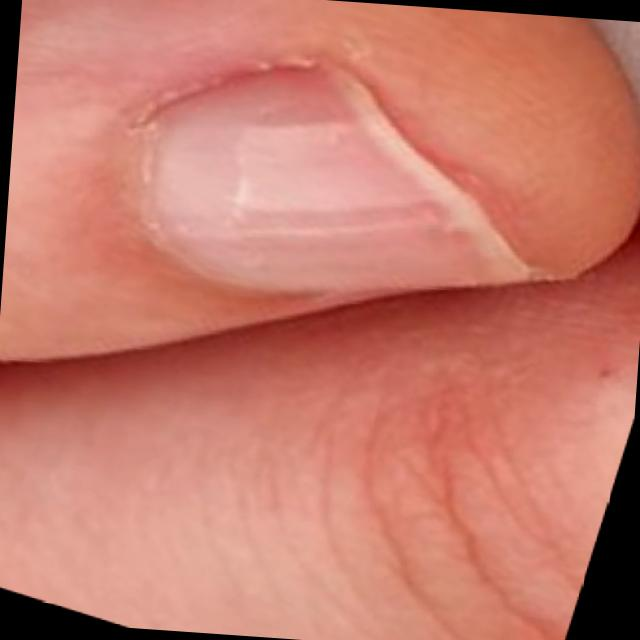Nail: (150, 67, 554, 299)
